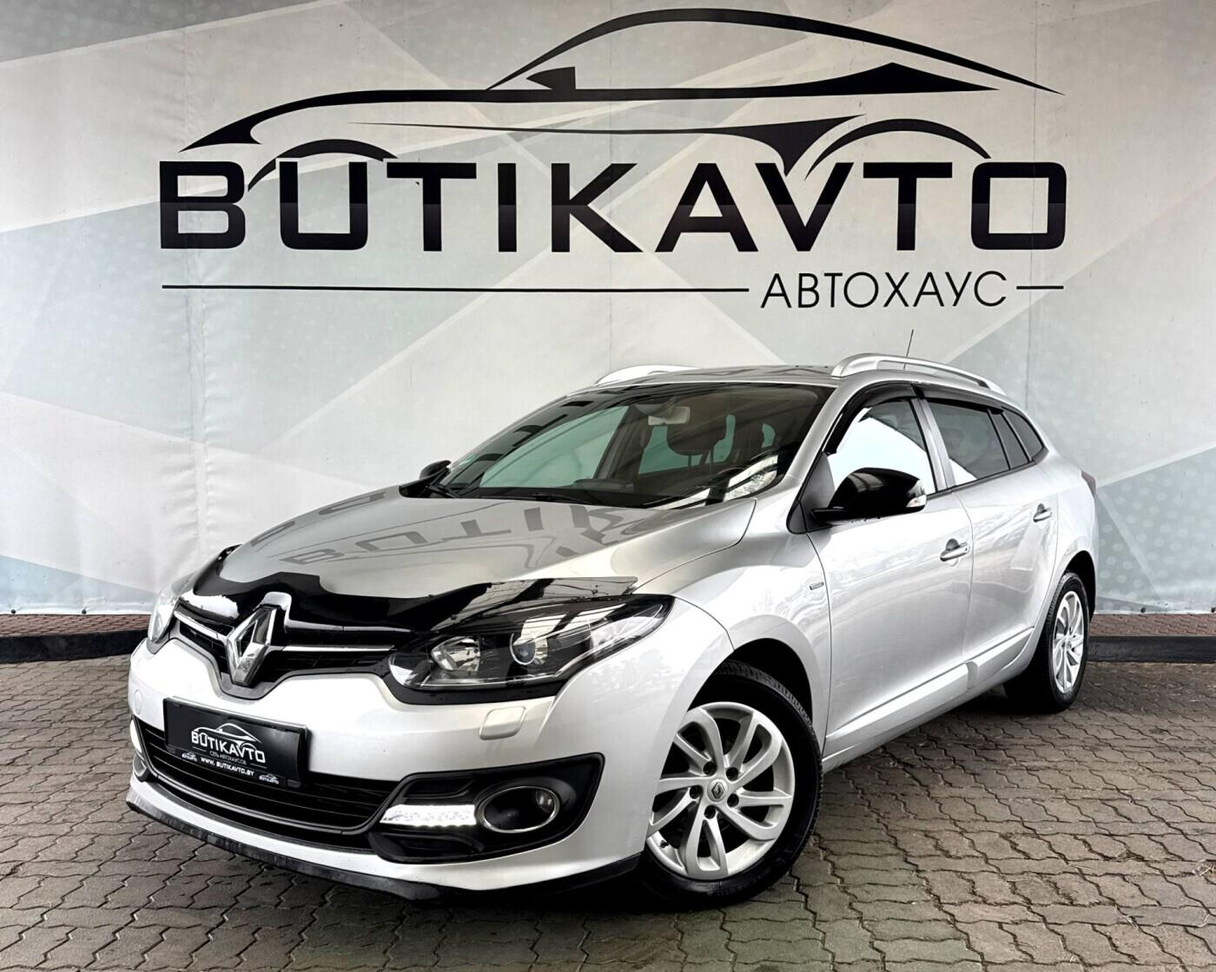Megane_2014-2016: (124, 358, 1098, 909)
